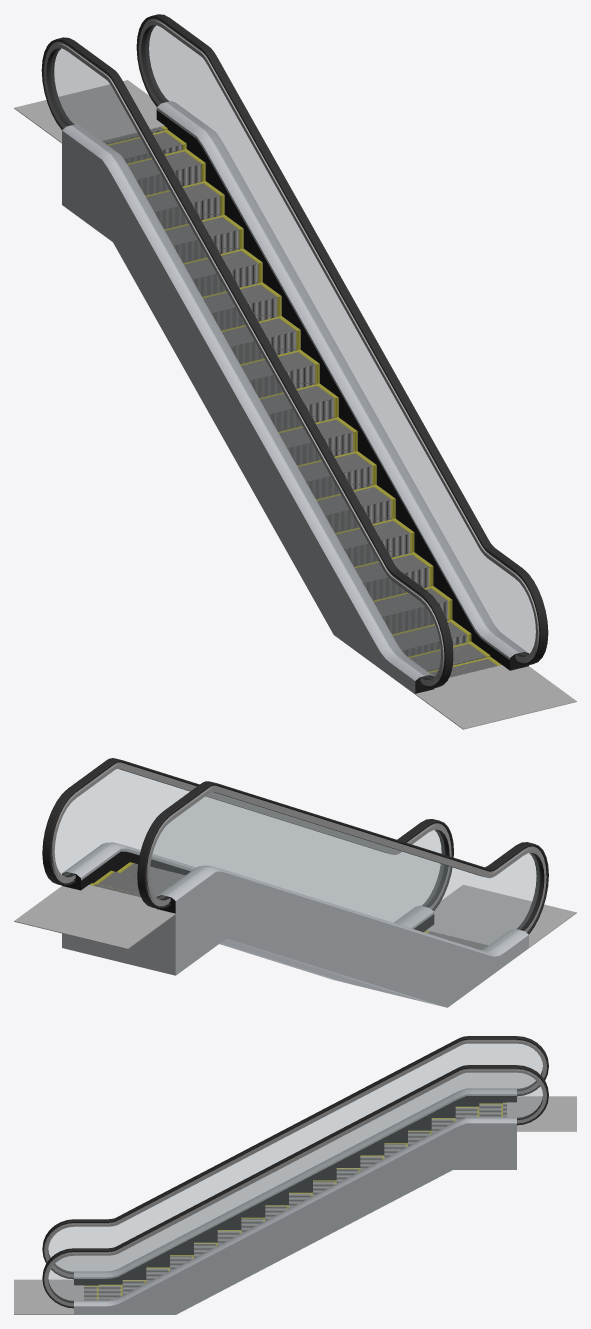
File: Escalator.glb
3 views of the same model, one above another, from view 1: azimuth 30°, elevation 25°; view 2: azimuth 150°, elevation 25°; view 3: azimuth 270°, elevation 25° (orthographic). The views are drawn at different scales.
Parts seen in each view (by area): view 1: Object_3, Object_7, Object_6, Object_5, Object_8, Object_4, Object_2; view 2: Object_3, Object_7, Object_8, Object_5, Object_4, Object_6, Object_2; view 3: Object_3, Object_7, Object_4, Object_5, Object_2, Object_6, Object_8.
Part boxes in pixels (<box>): Object_3: <box>50,25,535,678</box>; Object_7: <box>62,101,527,694</box>; Object_6: <box>103,126,501,677</box>; Object_5: <box>41,14,548,688</box>; Object_8: <box>14,80,576,729</box>; Object_4: <box>44,18,539,686</box>; Object_2: <box>156,110,528,693</box>; Object_3: <box>55,769,539,951</box>; Object_7: <box>62,842,528,1007</box>; Object_8: <box>14,885,576,949</box>; Object_5: <box>42,758,548,934</box>; Object_4: <box>51,762,546,932</box>; Object_6: <box>90,862,487,950</box>; Object_2: <box>62,851,434,932</box>; Object_3: <box>48,1044,542,1301</box>; Object_7: <box>74,1088,516,1314</box>; Object_4: <box>44,1039,547,1306</box>; Object_5: <box>42,1036,548,1308</box>; Object_2: <box>74,1096,516,1285</box>; Object_6: <box>84,1102,506,1300</box>; Object_8: <box>14,1096,576,1314</box>.
Size of the model in its own units: 19.61 by 64.53 by 134.
7 materials, 1 textured.
